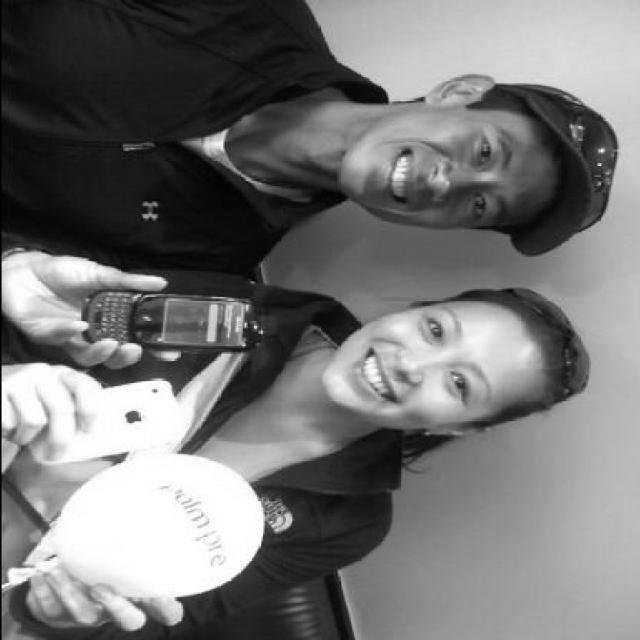fake: (25, 377, 184, 468), (80, 290, 262, 355)
real: (318, 295, 556, 441), (335, 108, 561, 236), (413, 309, 496, 420), (460, 125, 513, 225)
